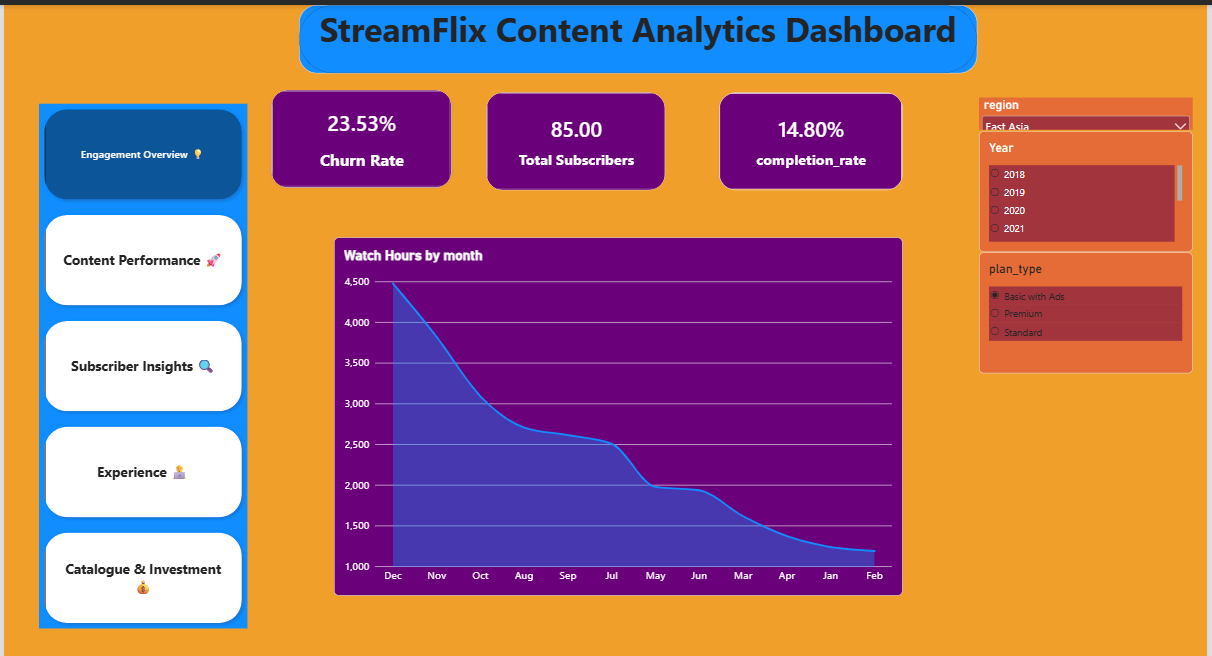

This screenshot's page, from the dashboard's own definition file:
{"tool":"powerbi","page":{"name":"Engagement Overview 💡 ","canvas":[2000,1219],"ordinal":0},"visuals":[{"type":"lineChart","title":"Watch Hours by month","fields":{"Category":["DateTable.Month Name"],"Y":["public watch_history.Total_Watch_hours"]},"box":[547.8,385.5,944.6,595.1],"z":0},{"type":"cardVisual","title":"Churn Rate","fields":{"Data":["public subscribers.Churn Rate"]},"box":[444.5,141.6,299.1,162],"z":1000},{"type":"cardVisual","fields":{"Data":["public subscribers.Total Subscribers"]},"box":[801.9,145.4,297.1,162],"z":2000},{"type":"cardVisual","fields":{"Data":["public watch_history.completion_rate"]},"box":[1188.3,145.4,305.4,162],"z":3000},{"type":"listSlicer","fields":{"Values":["DateTable.Year"]},"box":[1620.9,209.7,355,201],"z":4000},{"type":"listSlicer","fields":{"Values":["public subscribers.plan_type"]},"box":[1620.9,410.3,355,201],"z":5000},{"type":"slicer","fields":{"Values":["public subscribers.region"]},"box":[1620.8,153.7,355.1,53.4],"z":6000},{"type":"textbox","box":[489.8,0,1126.9,113.3],"z":8000},{"type":"pageNavigator","box":[58.2,164.1,346.3,872.1],"z":9000},{"type":"shape","box":[489.8,0,1126.9,113.3],"z":9001}]}

Visuals, with their boxes on the page's 2000x1219 design canvas (x1, y1, x2, y2). These are canvas units, not pixel positions in the 1212x656 screenshot, which may show the page scaled, cropped or inside an application window:
"Watch Hours by month" lineChart: BBox(548, 386, 1492, 981)
"Churn Rate" cardVisual: BBox(444, 142, 744, 304)
cardVisual - public subscribers.Total Subscribers: BBox(802, 145, 1099, 307)
cardVisual - public watch_history.completion_rate: BBox(1188, 145, 1494, 307)
listSlicer - DateTable.Year: BBox(1621, 210, 1976, 411)
listSlicer - public subscribers.plan_type: BBox(1621, 410, 1976, 611)
slicer - public subscribers.region: BBox(1621, 154, 1976, 207)
textbox: BBox(490, 0, 1617, 113)
pageNavigator: BBox(58, 164, 404, 1036)
shape: BBox(490, 0, 1617, 113)
